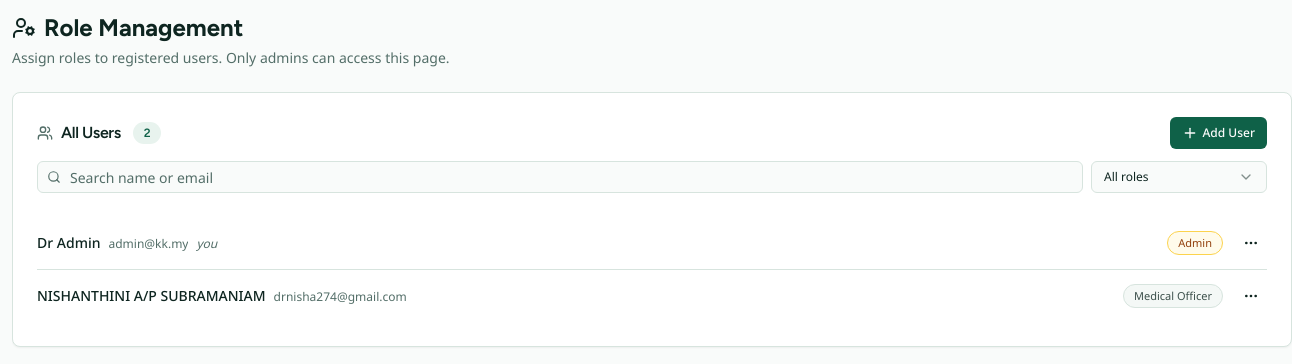
Test case: RoleManagement user list › offers a way out when a search matches nobody
The image size is (1292, 364).
Expected: the text "Dr Admin" is shown, [37,233,100,253]
Type "zzzz" into the field named "search users" at (560, 177), box [37,161,1083,193]
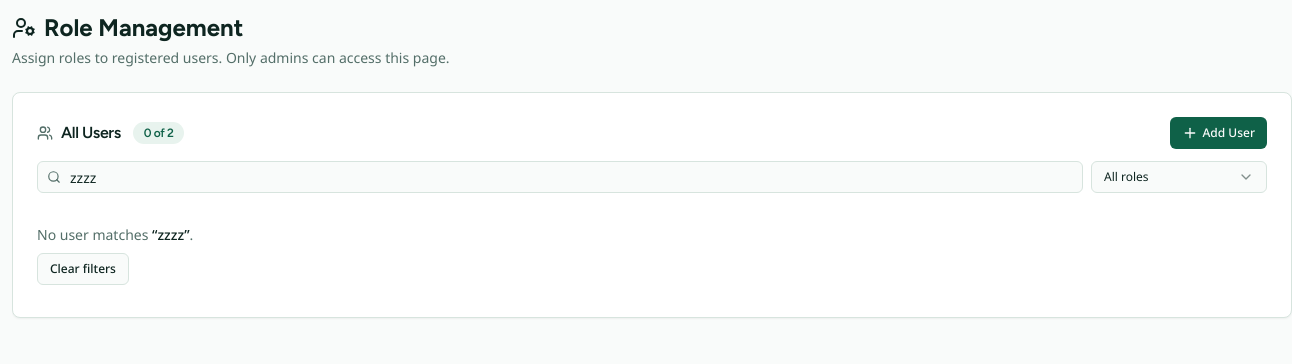
Expected: the text "No user matches “zzzz”." is shown, [37,225,193,244]
Click the button "Clear filters" at (83, 269), box [37,253,129,285]
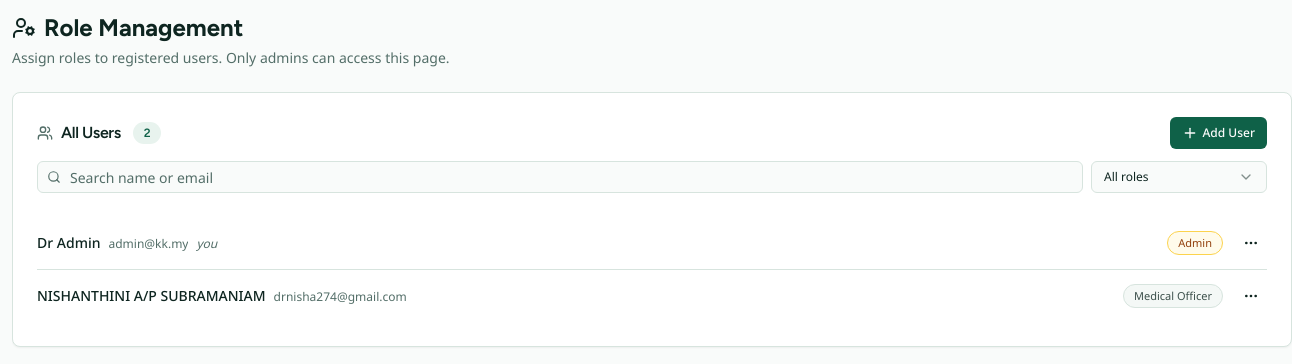
Expected: the text "Dr Admin" is shown, [37,233,100,253]
